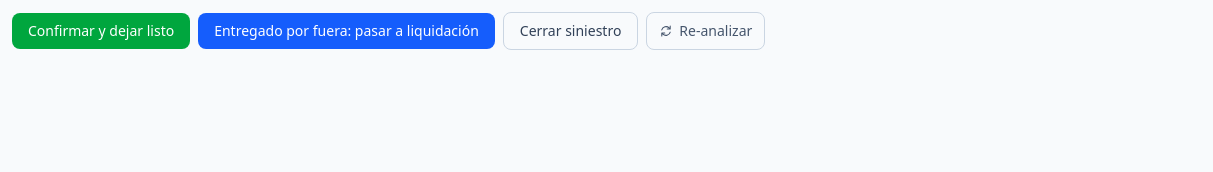
Test: StatusActions — salidas a mano › «Cancelar» vuelve al botón sin mandar nada
Click the button with test id "action-liquidacion" at (347, 31), box [198,13,495,49]
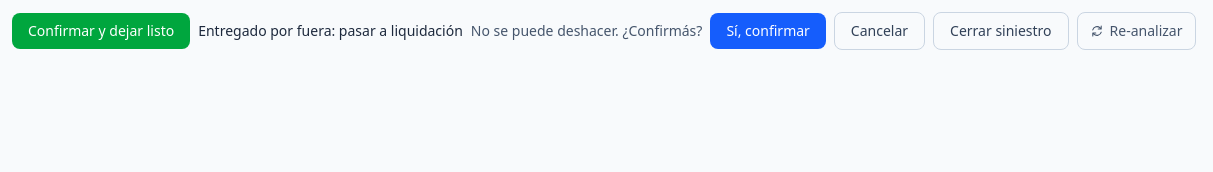
Click the button "Cancelar" at (880, 31), box [834,12,925,50]
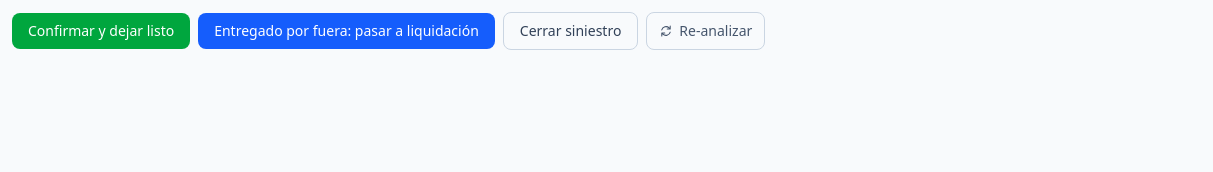
Expected: the button with test id "action-liquidacion" is shown, [198,13,495,49]
Result: the button with test id "action-liquidacion-confirmar" is gone
